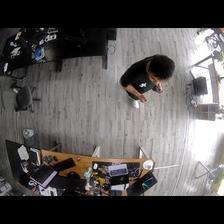normal: (119, 54, 175, 108)
